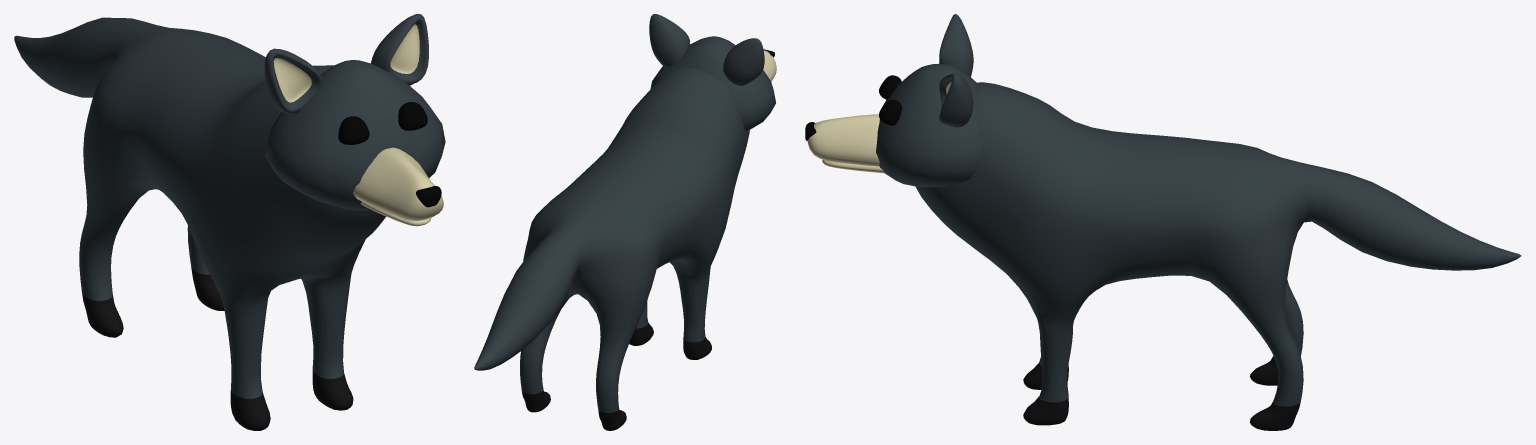
The model's file is Wolf.obj.
The picture shows the model from 3 angles, left to right: view 1: azimuth 30°, elevation 25°; view 2: azimuth 150°, elevation 25°; view 3: azimuth 270°, elevation 25°; orthographic projection. The views are drawn at different scales.
Parts seen in each view (by area): view 1: Wolf_RetopoFlow.001, Eyes_Wolf_RetopoFlow.002; view 2: Wolf_RetopoFlow.001; view 3: Wolf_RetopoFlow.001, Eyes_Wolf_RetopoFlow.002.
Boxes of the visible parts, x1,y1,x2,y2 form: Wolf_RetopoFlow.001: (14, 14, 445, 430); Eyes_Wolf_RetopoFlow.002: (338, 102, 427, 144); Wolf_RetopoFlow.001: (474, 14, 776, 430); Wolf_RetopoFlow.001: (805, 14, 1521, 430); Eyes_Wolf_RetopoFlow.002: (879, 75, 901, 125).
Bounding box in the file's own units: 1.03 × 2.45 × 4.4.
